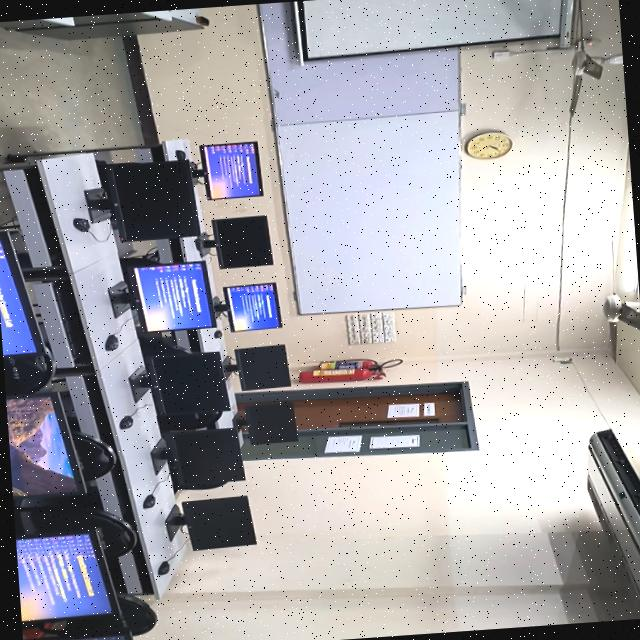Ac: (587, 429, 640, 599)
Chair: (12, 497, 135, 559), (2, 345, 52, 395), (70, 430, 115, 481), (117, 595, 156, 636), (158, 410, 221, 431)
Fire Extinguisher: (298, 368, 381, 383), (313, 359, 382, 371)
Light: (623, 209, 638, 292)
Monitor: (14, 528, 119, 624), (85, 159, 199, 241), (5, 395, 73, 495), (128, 352, 228, 414), (130, 261, 214, 331), (150, 428, 243, 489), (164, 496, 255, 550), (0, 239, 37, 355), (195, 215, 271, 268), (199, 141, 261, 199), (222, 344, 289, 390), (222, 282, 280, 331), (245, 402, 297, 444)
Mouse: (72, 218, 89, 232), (104, 335, 118, 350), (118, 415, 133, 429), (142, 494, 154, 508), (157, 561, 169, 575), (174, 150, 185, 160), (213, 330, 220, 338)
